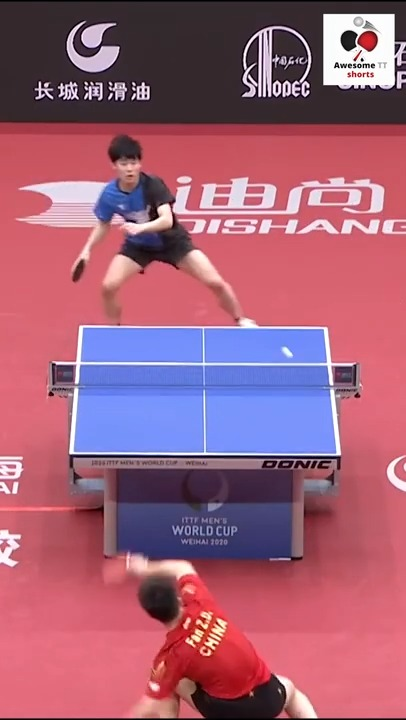Ball: (281, 348, 300, 360)
